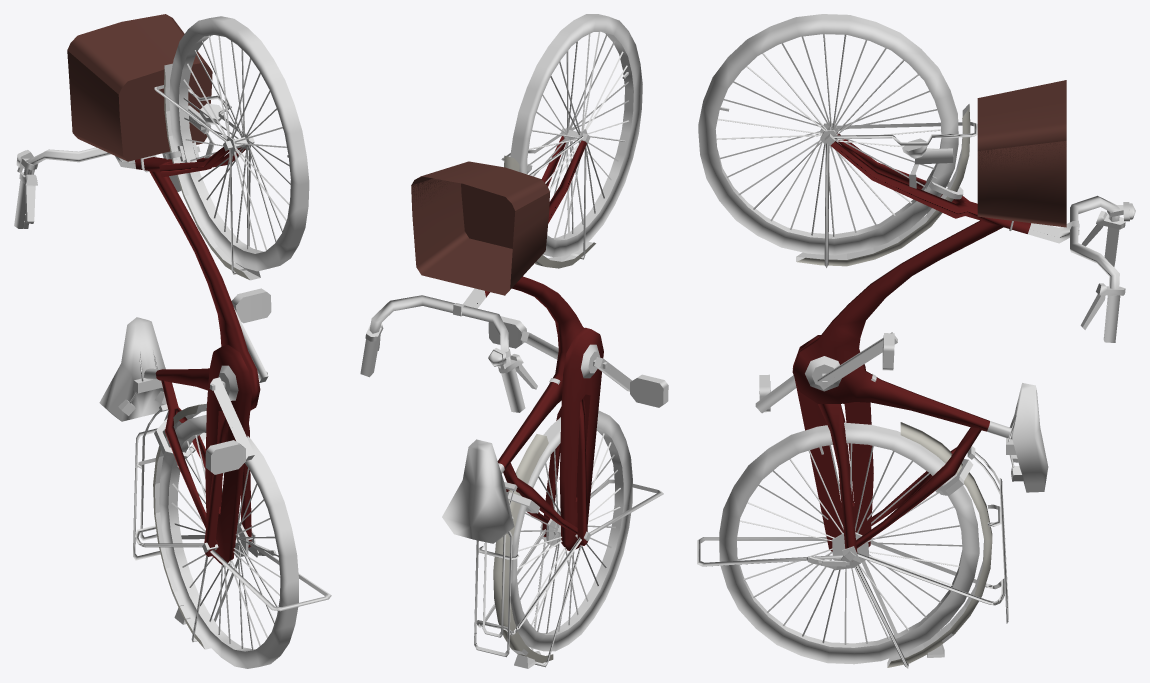
File: SM_000720_gi201c_bicycle_lv1.fbx
The picture shows the model from 3 angles, left to right: view 1: azimuth 30°, elevation 25°; view 2: azimuth 150°, elevation 25°; view 3: azimuth 270°, elevation 25°; orthographic projection. The views are drawn at different scales.
Visible parts, largest first — view 1: SM_000720.001; view 2: SM_000720.001; view 3: SM_000720.001.
Part boxes in pixels (x1,y1,x2,y2): SM_000720.001: (14,14,331,668); SM_000720.001: (360,14,668,668); SM_000720.001: (697,14,1135,668).
Size of the model in its own units: 0.5336 by 1.9 by 1.17.
